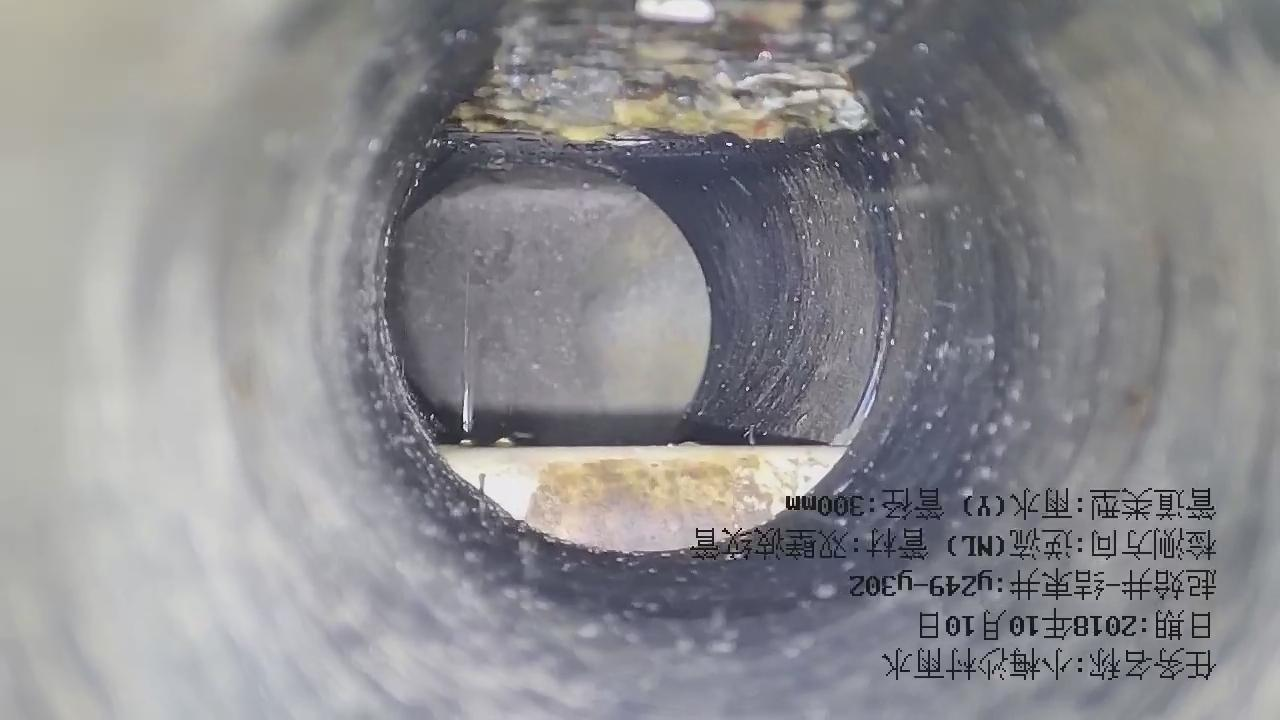CJ: (449, 1, 918, 145)
SG: (439, 443, 848, 552)
